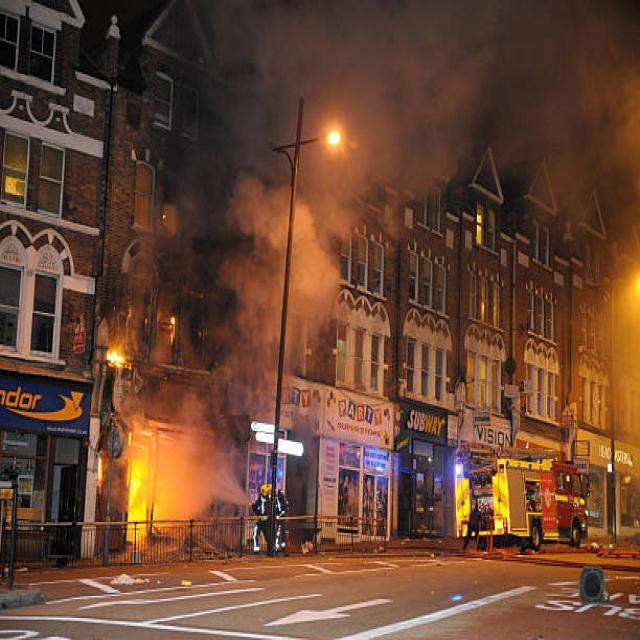Fire: (127, 432, 155, 529)
Smoke: (229, 8, 640, 214), (196, 142, 318, 434), (153, 426, 244, 526)
